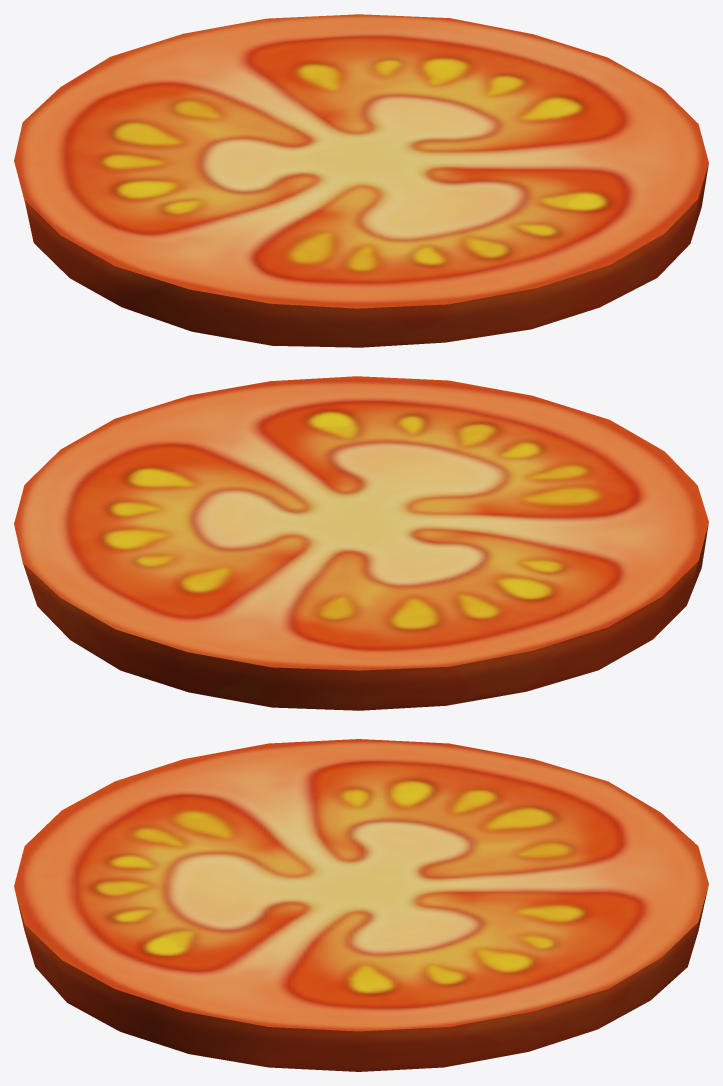
The model's file is Tomato_dilim.fbx.
3 renders of one model, top to bottom at view 1: azimuth 30°, elevation 25°; view 2: azimuth 150°, elevation 25°; view 3: azimuth 270°, elevation 25°, orthographic.
Visible parts, largest first — view 1: Tomato_dilim.002; view 2: Tomato_dilim.002; view 3: Tomato_dilim.002.
Boxes of the visible parts, bbox=[...] form: Tomato_dilim.002: bbox=[14, 14, 708, 347]; Tomato_dilim.002: bbox=[14, 376, 708, 710]; Tomato_dilim.002: bbox=[14, 739, 708, 1071].
Bounding box in the file's own units: 17.54 × 1.26 × 17.62.
